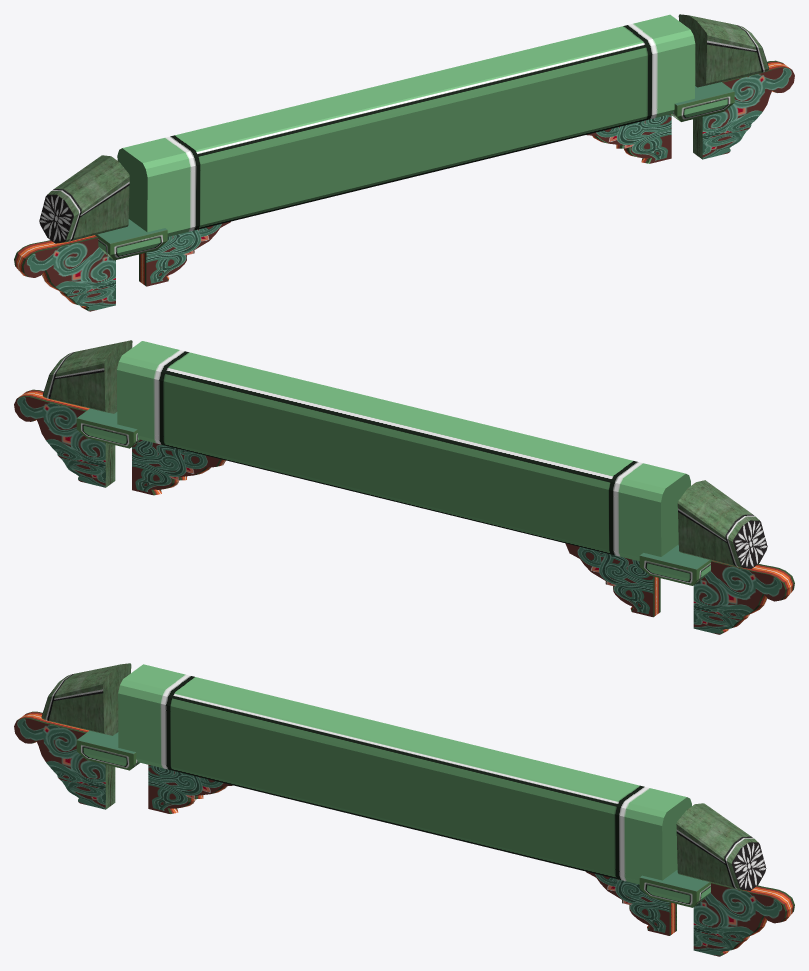
The model's file is SM_R_Beam_27.fbx.
3 renders of one model, top to bottom at view 1: azimuth 30°, elevation 25°; view 2: azimuth 150°, elevation 25°; view 3: azimuth 330°, elevation 25°, orthographic.
Visible parts, largest first — view 1: SM_R_Beam_27; view 2: SM_R_Beam_27; view 3: SM_R_Beam_27.
Part boxes in pixels (bbox=[...]): SM_R_Beam_27: bbox=[14, 14, 794, 311]; SM_R_Beam_27: bbox=[14, 340, 794, 634]; SM_R_Beam_27: bbox=[14, 663, 794, 956].
Size of the model in its own units: 410 by 32.84 by 70.97.
Materials: 5 (5 with a texture image).
